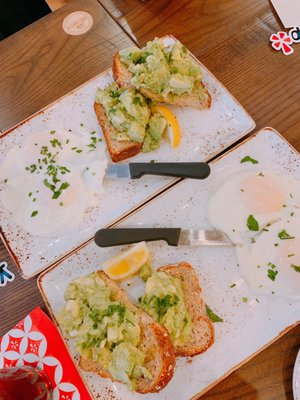curry: (110, 35, 212, 111)
sandwich: (96, 227, 238, 247)
soup: (139, 262, 218, 357)
taco: (103, 243, 152, 281)
